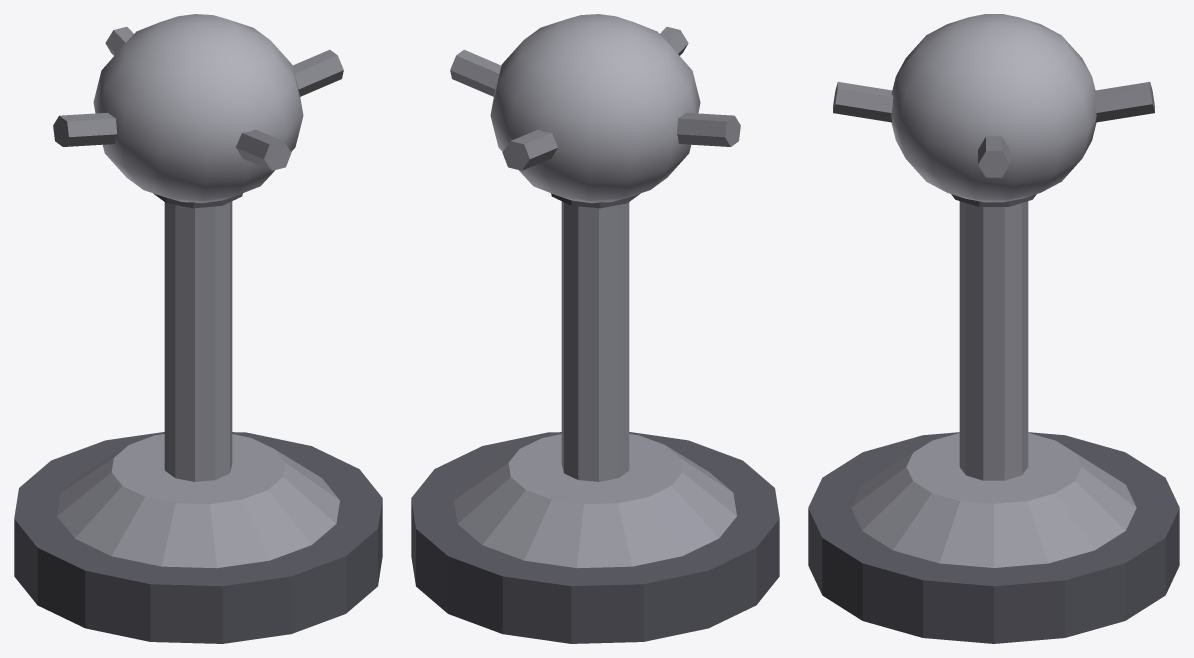
The model's file is Sprinkler_CommonSprinkler.fbx.
3 renders of one model, left to right at view 1: azimuth 30°, elevation 25°; view 2: azimuth 150°, elevation 25°; view 3: azimuth 270°, elevation 25°, orthographic.
Visible parts, largest first — view 1: Base_CommonSprinkler, Cabeca_CommonSprinkler, Cano_CommonSprinkler; view 2: Base_CommonSprinkler, Cabeca_CommonSprinkler, Cano_CommonSprinkler; view 3: Base_CommonSprinkler, Cabeca_CommonSprinkler, Cano_CommonSprinkler.
Boxes of the visible parts, bbox=[...] form: Base_CommonSprinkler: bbox=[14, 432, 382, 643]; Cabeca_CommonSprinkler: bbox=[53, 14, 343, 203]; Cano_CommonSprinkler: bbox=[153, 193, 242, 481]; Base_CommonSprinkler: bbox=[411, 432, 779, 643]; Cabeca_CommonSprinkler: bbox=[450, 14, 740, 203]; Cano_CommonSprinkler: bbox=[551, 193, 640, 481]; Base_CommonSprinkler: bbox=[808, 432, 1179, 643]; Cabeca_CommonSprinkler: bbox=[833, 14, 1154, 202]; Cano_CommonSprinkler: bbox=[951, 194, 1036, 480].
Bounding box in the file's own units: 1.4 × 2.25 × 1.4.
1 material, 1 textured.
